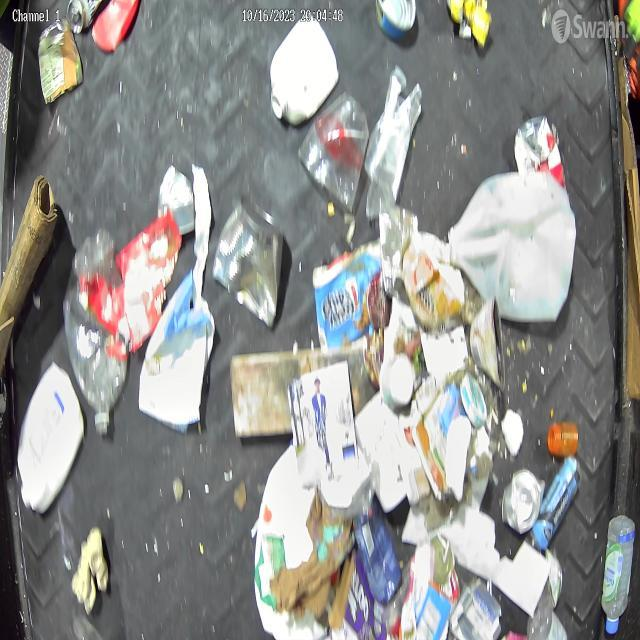can: (213, 192, 283, 328), (37, 18, 84, 106), (514, 114, 568, 190), (470, 295, 504, 392), (500, 469, 541, 534), (376, 0, 416, 41), (67, 0, 103, 34)
milk_jug: (448, 172, 578, 322), (16, 362, 86, 516)
plastic_bottle: (62, 226, 130, 434), (602, 514, 636, 636)
